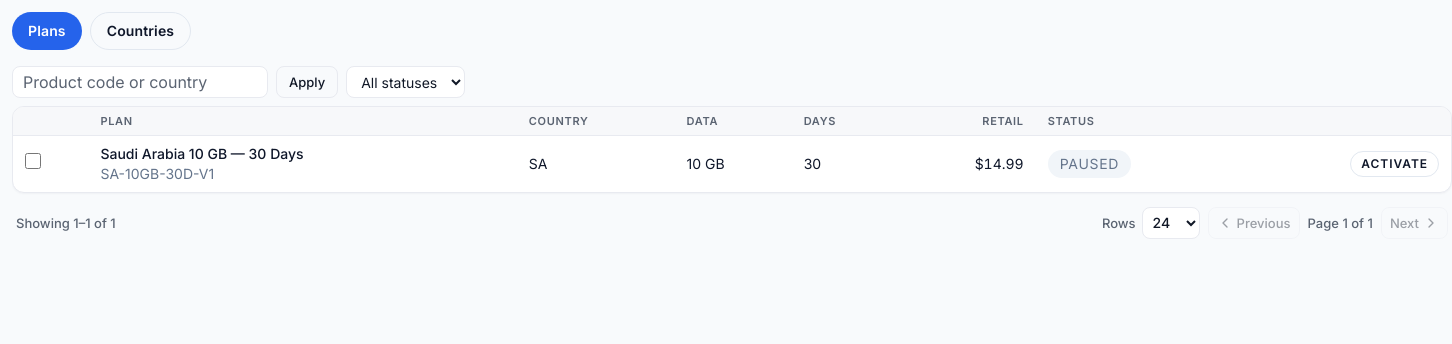
Scenario: selection › offers bulk actions only once something is selected
Expected: the 1st text "Saudi Arabia 10 GB — 30 Days" is shown, [100, 144, 304, 162]
Expected: the text "1 selected" is not shown
Step 1. Click the checkbox named "select sa-10gb" → (33, 161), box [25, 153, 41, 169]
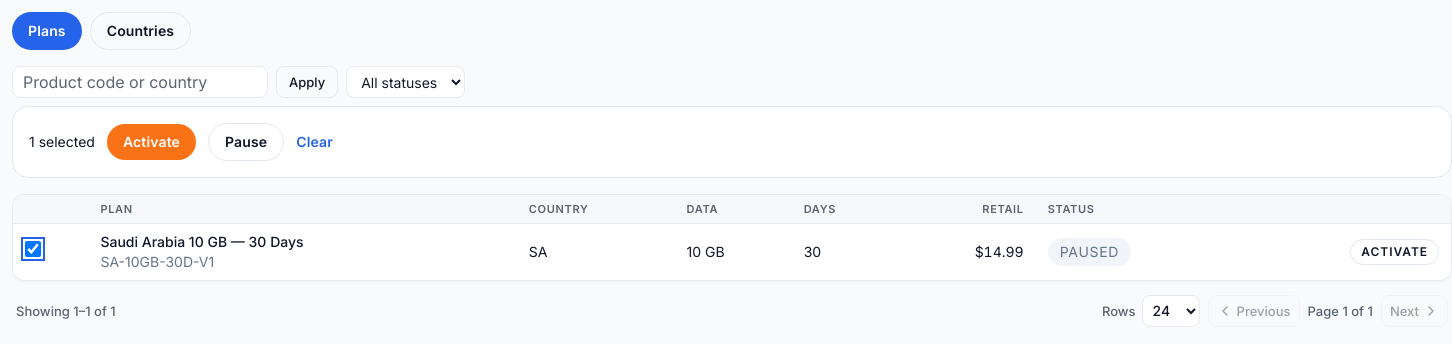
Expected: the 1st text "1 selected" is shown, [29, 132, 95, 152]
